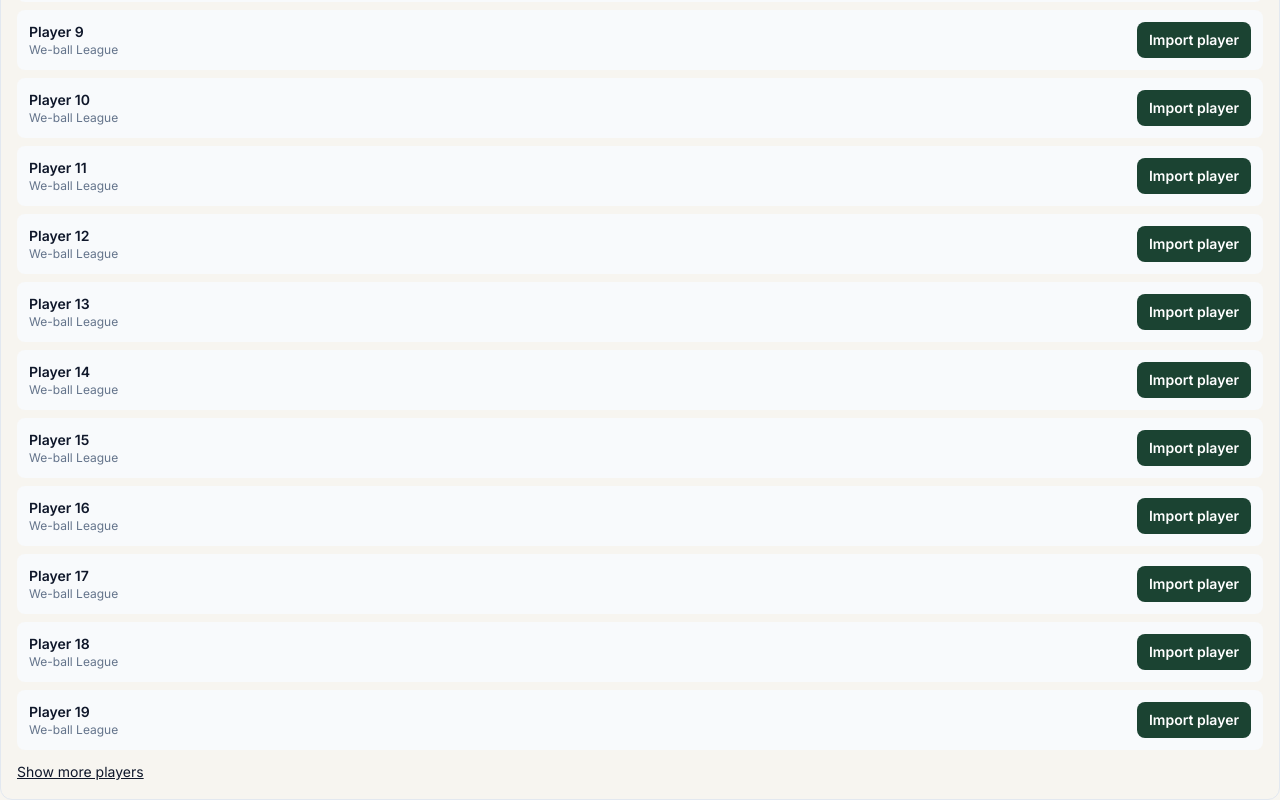
Test: long player lists expand incrementally and search resets the list
(page scrolled)
Click the button "Show more players": (80, 772) [17, 762, 144, 782]
(page scrolled)
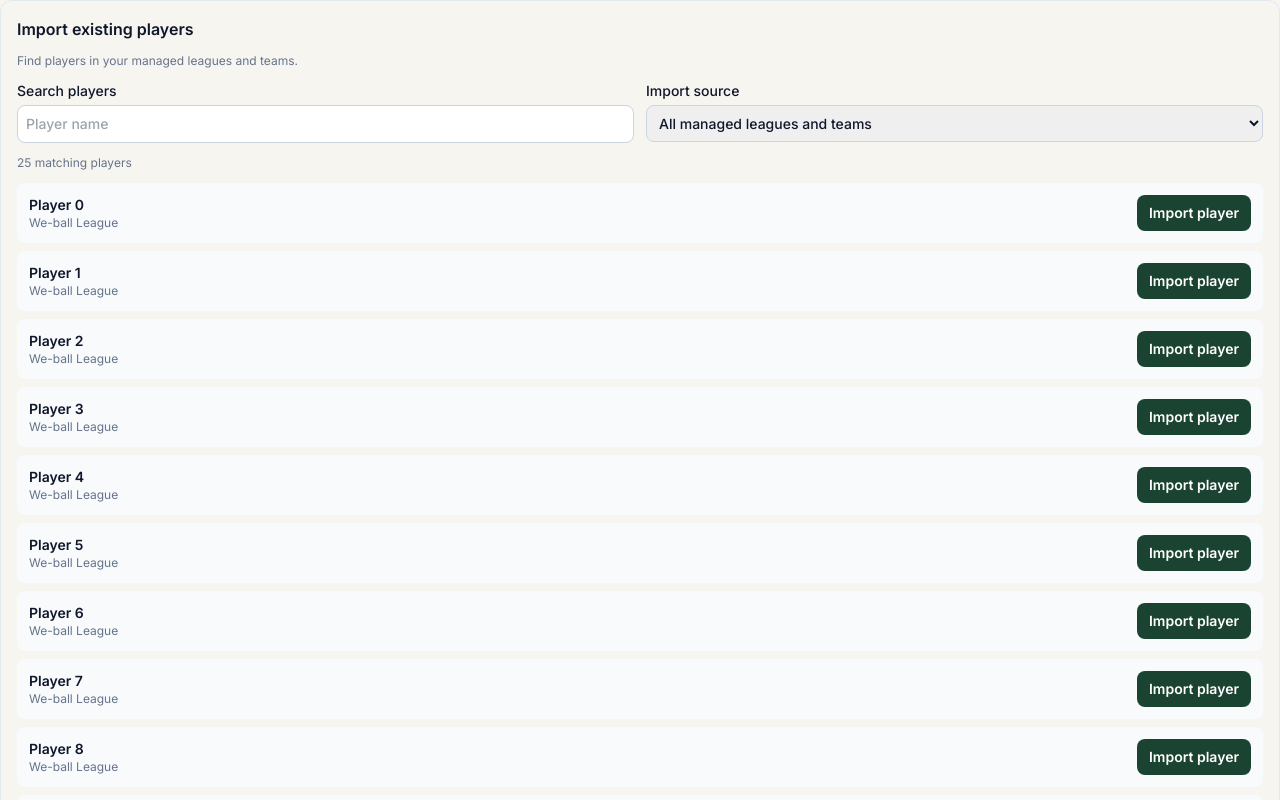
Result: the number of list items is 25
In the search field labelled "Search players": (326, 124) [17, 105, 634, 143], type "Player 24"
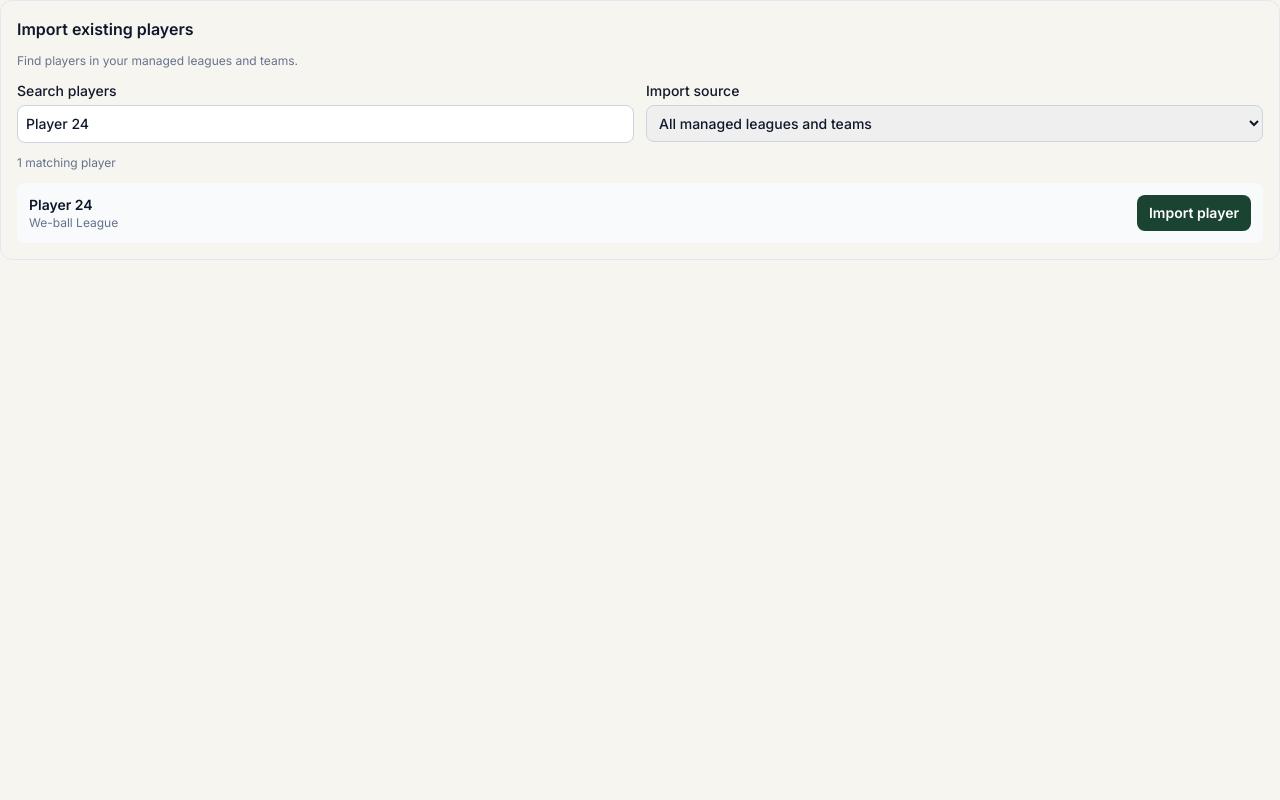
Result: the number of list items is 1 at [17, 183, 1263, 243]
